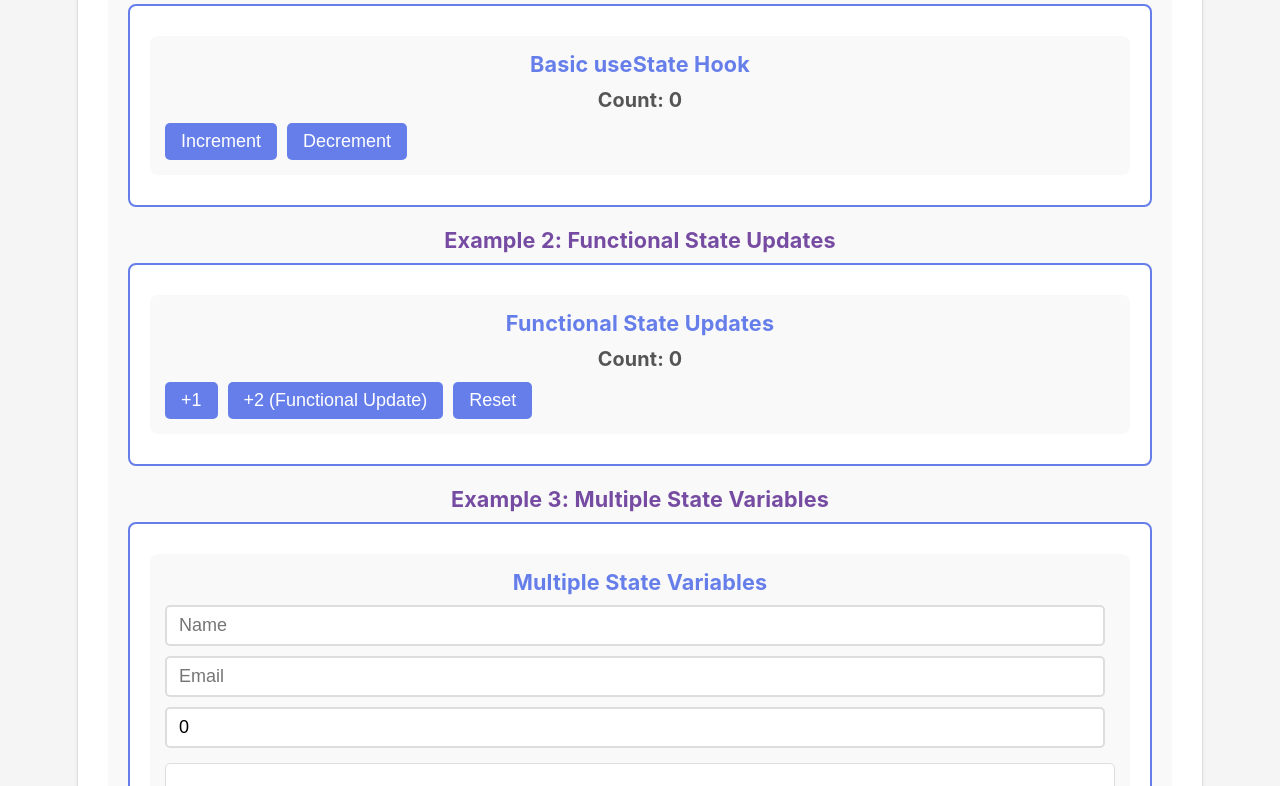
StateManagementDemo › increments by 2 using functional updates
(page scrolled)
// Click it
Click the button "+2 (Functional Update)" at (335, 401), box [228,382,443,419]
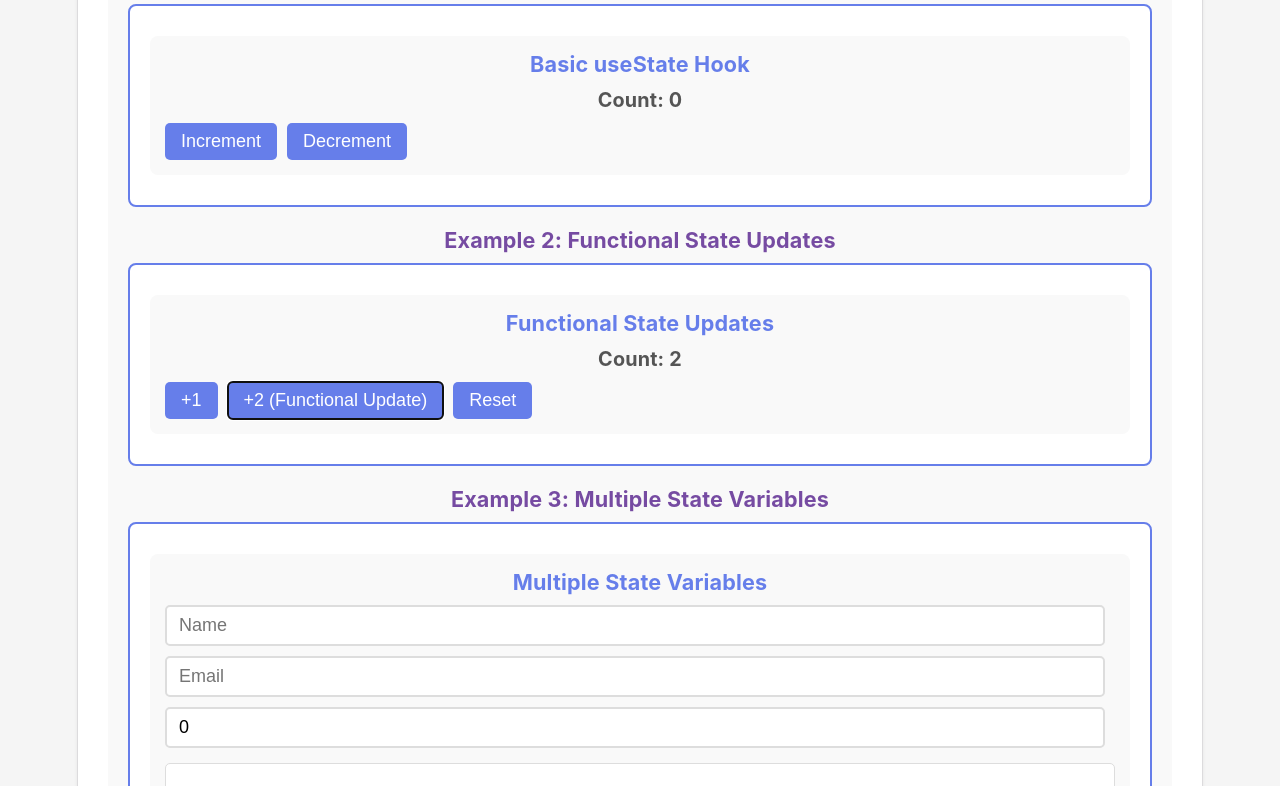
Expected: the text "Count: 2" is shown, [598,347,682,371]
